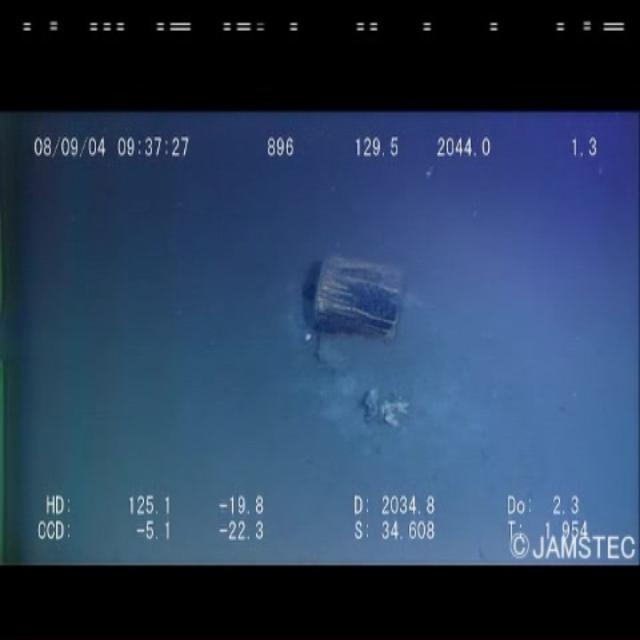Litter: (352, 374, 426, 452)
Metal: (307, 246, 418, 352)
